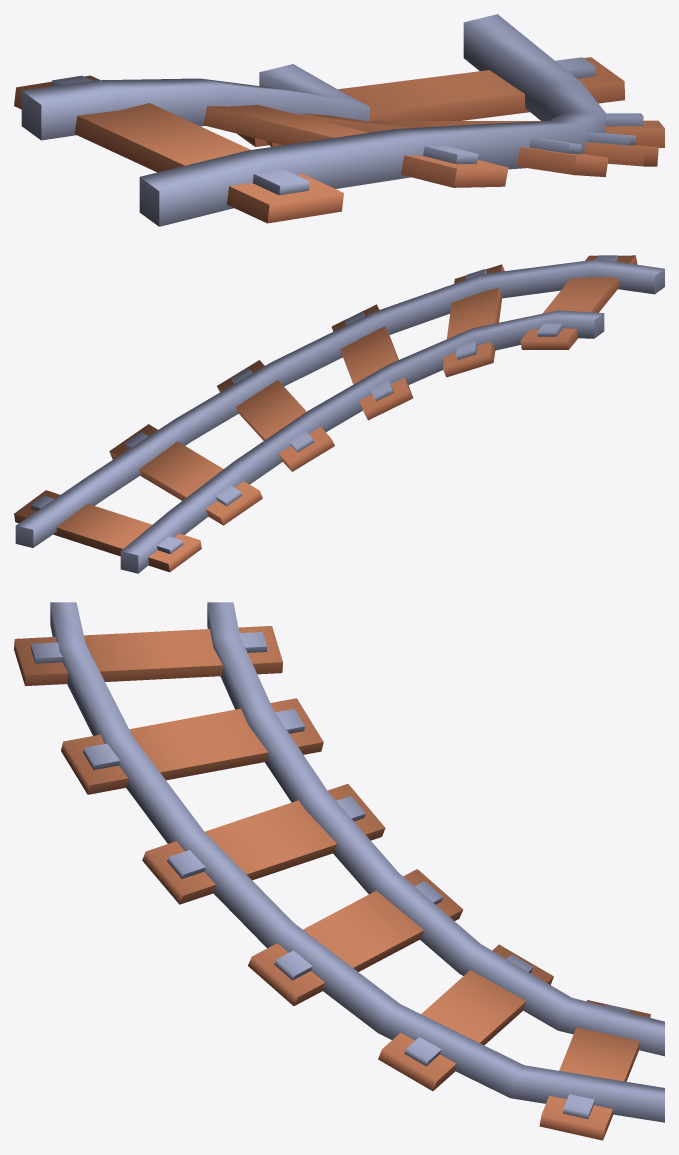
Rendered from railroad-corner-small-ramp.glb.
3 views of the same model, one above another, from view 1: azimuth 30°, elevation 25°; view 2: azimuth 150°, elevation 25°; view 3: azimuth 270°, elevation 25° (orthographic). The views are drawn at different scales.
Parts seen in each view (by area): view 1: railroad-corner-small-ramp; view 2: railroad-corner-small-ramp; view 3: railroad-corner-small-ramp.
Boxes of the visible parts, x1,y1,x2,y2 form: railroad-corner-small-ramp: (14, 14, 664, 226); railroad-corner-small-ramp: (14, 255, 664, 573); railroad-corner-small-ramp: (14, 602, 664, 1140).
Size of the model in its own units: 2.49 by 1.11 by 2.49.
